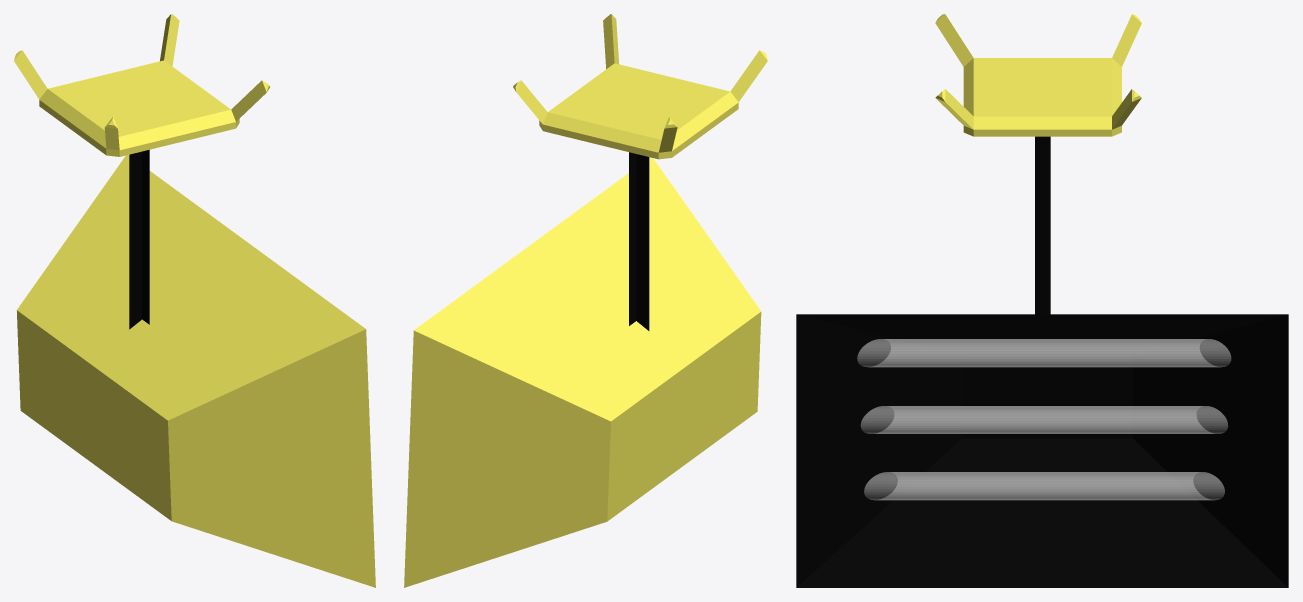
Rendered from floodlight.fbx.
3 renders of one model, left to right at view 1: azimuth 30°, elevation 25°; view 2: azimuth 150°, elevation 25°; view 3: azimuth 270°, elevation 25°, orthographic. The views are drawn at different scales.
Visible parts, largest first — view 1: Cube; view 2: Cube; view 3: Cube.
Part boxes in pixels (x1=…): Cube: x1=14, y1=14, x2=375, y2=587; Cube: x1=404, y1=14, x2=767, y2=587; Cube: x1=796, y1=14, x2=1288, y2=587.
Size of the model in its own units: 131 by 292 by 273.
